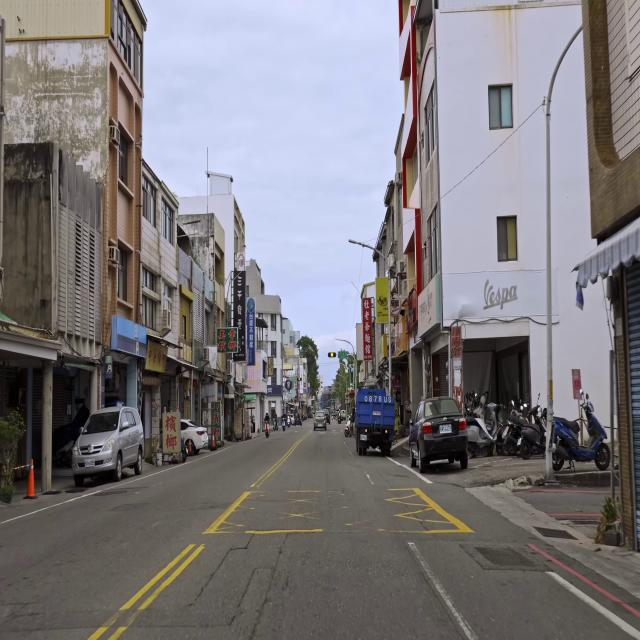yellow light: (328, 352, 336, 358), (297, 378, 302, 381)
